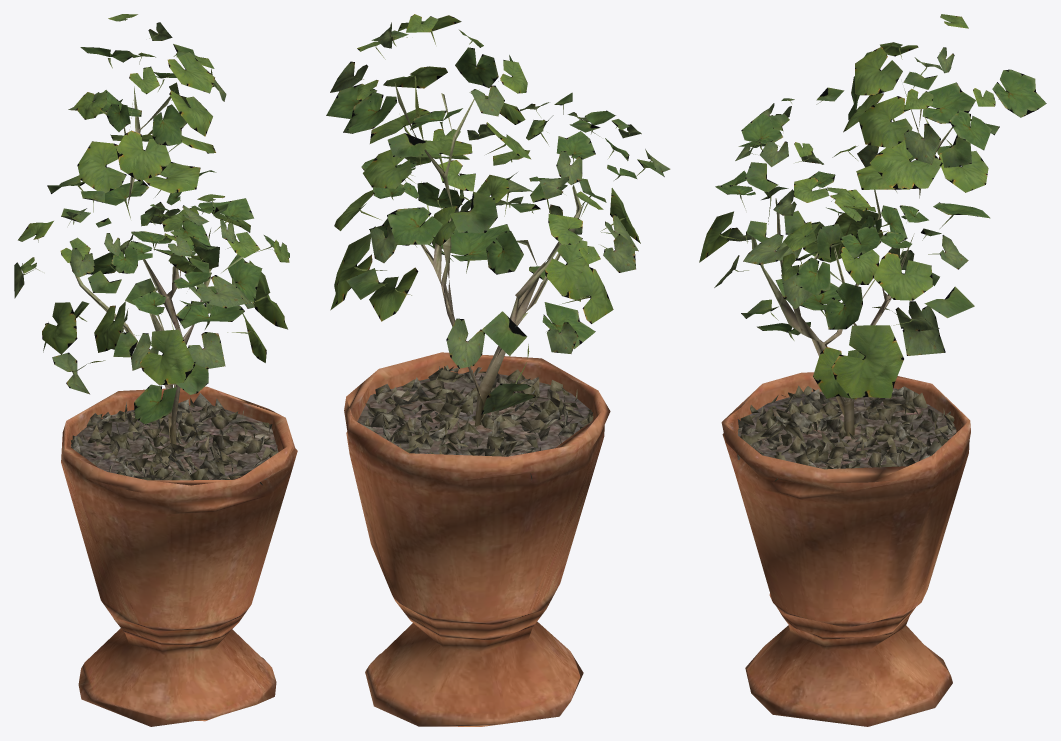
The model's file is plantBush.glb.
3 renders of one model, left to right at view 1: azimuth 30°, elevation 25°; view 2: azimuth 150°, elevation 25°; view 3: azimuth 270°, elevation 25°, orthographic. The views are drawn at different scales.
Visible parts, largest first — view 1: potted_plant_01_stem, potted_plant_01_leaves; view 2: potted_plant_01_stem, potted_plant_01_leaves; view 3: potted_plant_01_stem, potted_plant_01_leaves.
Boxes of the visible parts, x1,y1,x2,y2 form: potted_plant_01_stem: [61, 86, 297, 726]; potted_plant_01_leaves: [14, 14, 289, 424]; potted_plant_01_stem: [344, 82, 610, 726]; potted_plant_01_leaves: [326, 14, 670, 414]; potted_plant_01_stem: [721, 88, 970, 726]; potted_plant_01_leaves: [699, 14, 1046, 399].
Size of the model in its own units: 0.5858 by 1.33 by 0.6336.
Materials: 2 (2 with a texture image).
